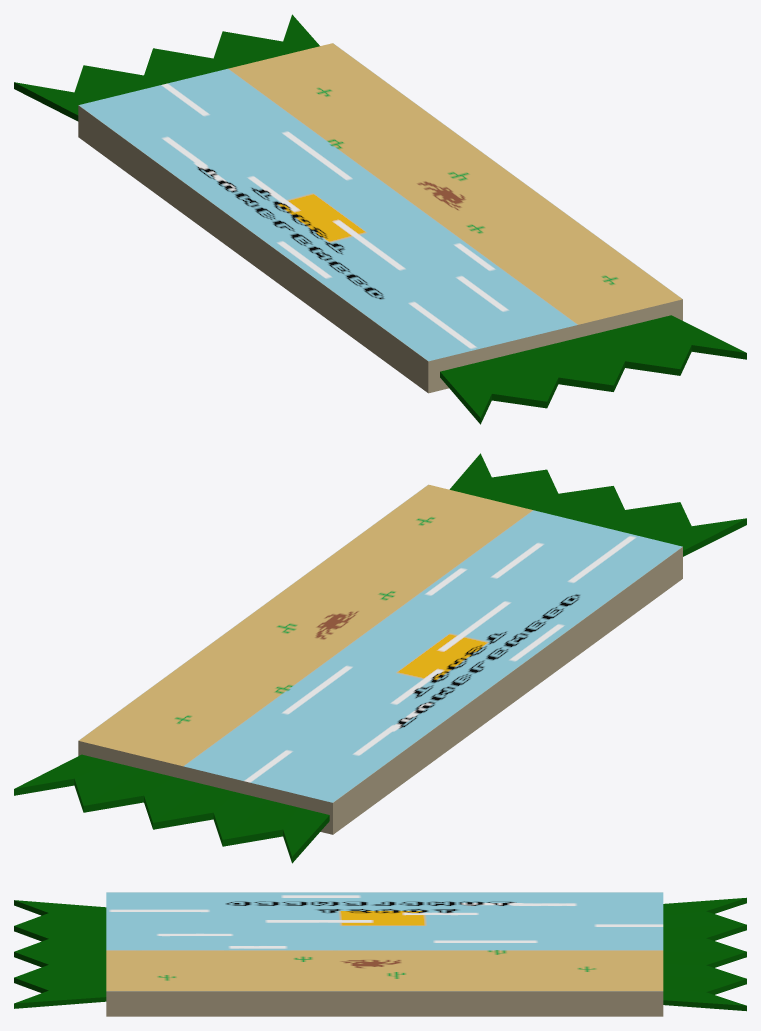
File: Tumbleweed toast bar.fbx
3 views of the same model, one above another, from view 1: azimuth 30°, elevation 25°; view 2: azimuth 150°, elevation 25°; view 3: azimuth 270°, elevation 25° (orthographic). The views are drawn at different scales.
Parts seen in each view (by area): view 1: Cube; view 2: Cube; view 3: Cube.
Part boxes in pixels (bbox=[...]): Cube: bbox=[14, 14, 746, 424]; Cube: bbox=[14, 453, 746, 863]; Cube: bbox=[14, 892, 746, 1016].
Bounding box in the file's own units: 727 × 79.95 × 2087.
